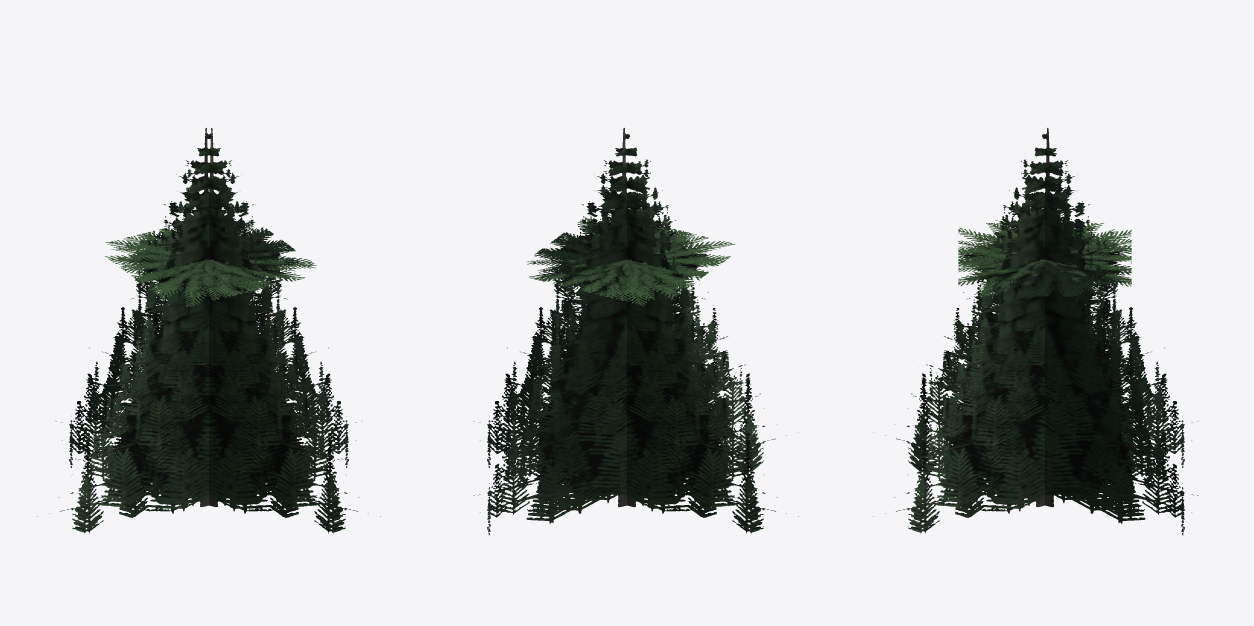
File: Fir_0_LOD2.glb
3 renders of one model, left to right at view 1: azimuth 30°, elevation 25°; view 2: azimuth 150°, elevation 25°; view 3: azimuth 270°, elevation 25°, orthographic.
Visible parts, largest first — view 1: Fir_0_LOD2; view 2: Fir_0_LOD2; view 3: Fir_0_LOD2.
Part boxes in pixels (box(x1,y1,x2,y2)): Fir_0_LOD2: box(37, 128, 380, 533); Fir_0_LOD2: box(473, 128, 798, 535); Fir_0_LOD2: box(873, 128, 1198, 535).
Bounding box in the file's own units: 31.2 × 31.2 × 27.02.
Materials: 2 (2 with a texture image).
